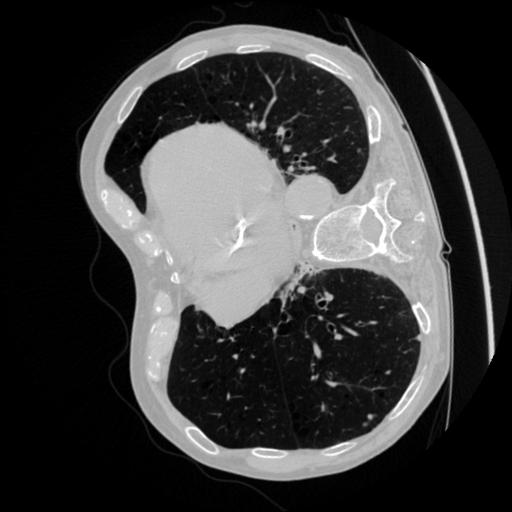nodule: (365, 410, 378, 423)
